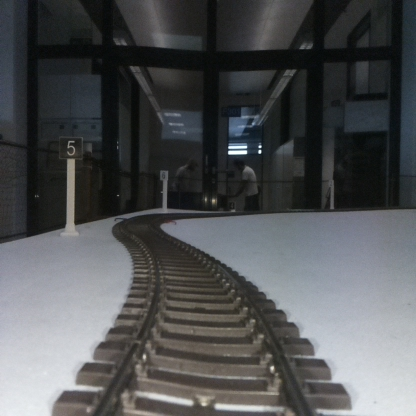black-info-5: (60, 138, 82, 234)
white-info-6: (160, 171, 167, 210)
